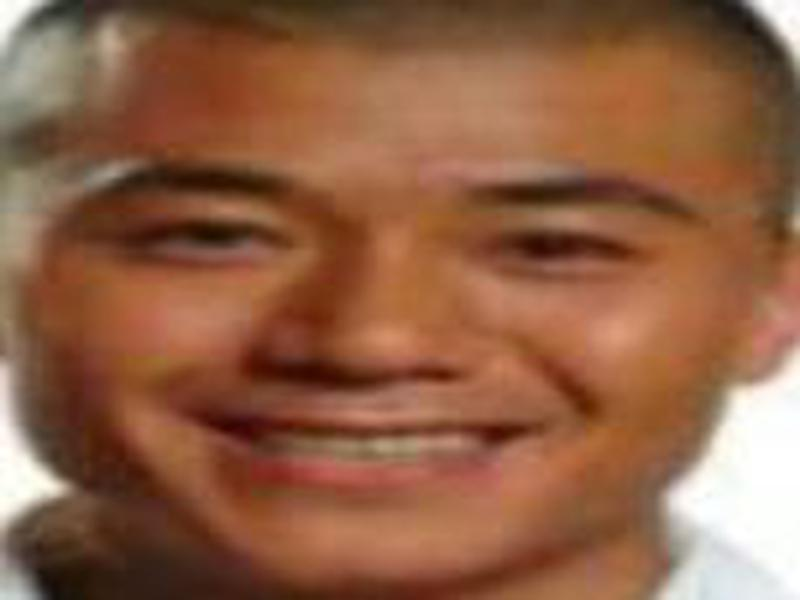without_mask: (27, 21, 753, 585)
